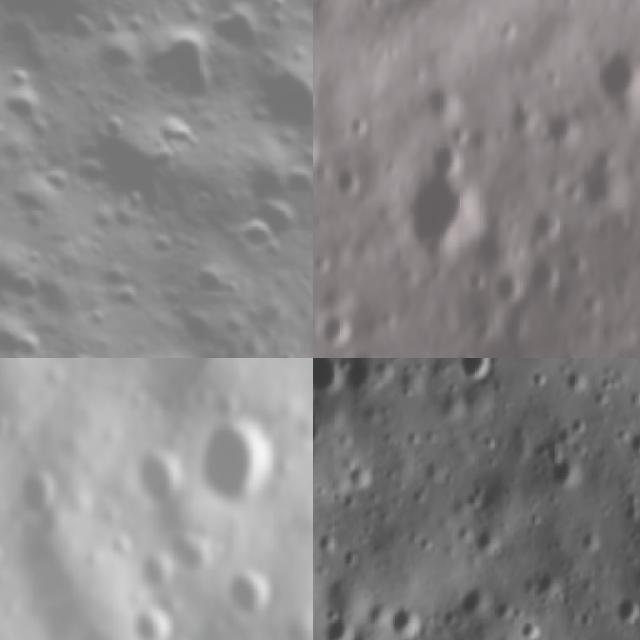crater: (48, 87, 200, 239), (116, 4, 241, 128), (235, 41, 313, 156), (407, 151, 492, 255), (193, 412, 282, 506), (0, 0, 130, 64), (200, 0, 281, 73), (182, 247, 256, 322), (575, 132, 638, 220), (244, 178, 313, 253), (219, 198, 286, 268), (86, 26, 148, 90), (11, 457, 70, 521), (0, 75, 55, 139), (132, 445, 186, 509), (593, 35, 640, 108), (221, 560, 278, 620), (148, 105, 206, 162), (163, 519, 214, 577), (0, 262, 53, 316), (52, 4, 105, 56), (30, 153, 81, 204), (410, 80, 466, 126), (138, 220, 187, 270), (313, 301, 364, 348), (0, 299, 40, 358), (275, 149, 313, 211), (125, 596, 176, 640), (504, 86, 547, 138), (132, 551, 180, 594), (529, 196, 568, 242), (3, 324, 55, 358), (488, 266, 526, 312), (332, 159, 370, 201), (109, 277, 148, 315), (388, 601, 426, 640), (544, 451, 583, 488), (529, 250, 565, 290), (187, 374, 221, 414), (470, 524, 505, 560), (313, 358, 346, 396), (458, 582, 491, 619), (610, 589, 640, 628), (55, 338, 109, 358), (214, 386, 243, 421), (321, 611, 356, 640), (456, 358, 495, 382), (562, 367, 590, 399), (577, 528, 604, 558), (349, 464, 375, 494), (317, 527, 338, 560), (515, 618, 544, 640), (373, 358, 396, 384), (0, 405, 10, 445), (532, 368, 548, 391), (165, 629, 196, 640), (0, 538, 10, 567)
